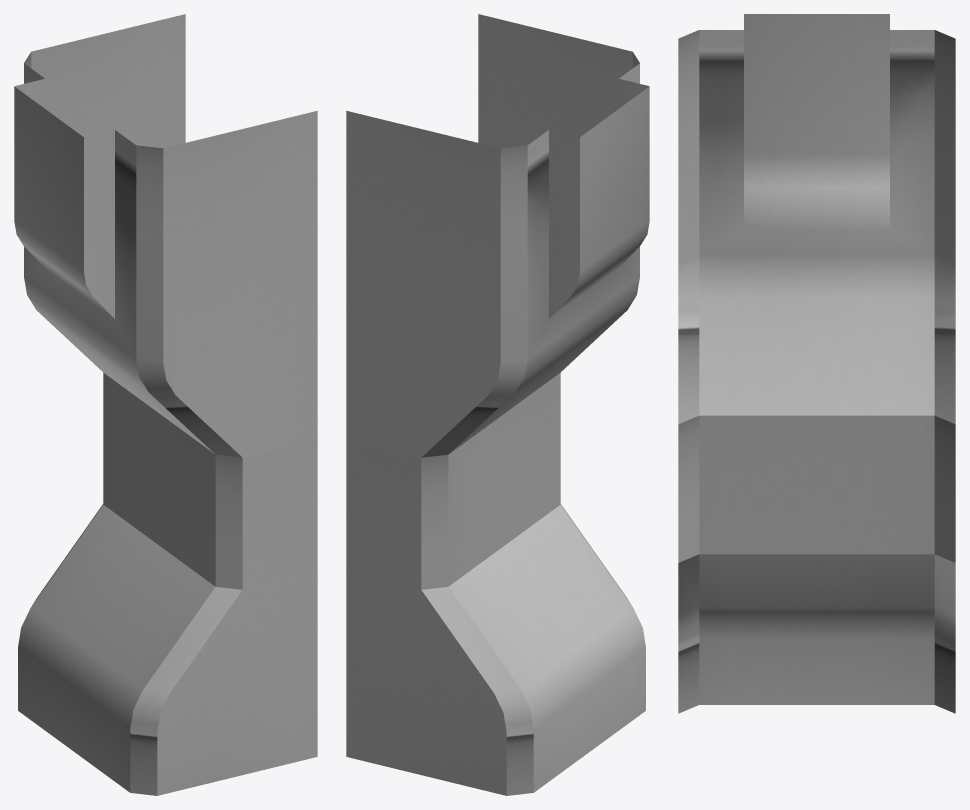
File: wallPillar.FBX
3 renders of one model, left to right at view 1: azimuth 30°, elevation 25°; view 2: azimuth 150°, elevation 25°; view 3: azimuth 270°, elevation 25°, orthographic. The views are drawn at different scales.
Parts seen in each view (by area): view 1: wallPillar; view 2: wallPillar; view 3: wallPillar.
Part boxes in pixels (x1,y1,x2,y2): wallPillar: (14, 14, 317, 795); wallPillar: (346, 14, 649, 795); wallPillar: (678, 14, 955, 713).
Size of the model in its own units: 3.54 by 10.8 by 4.
